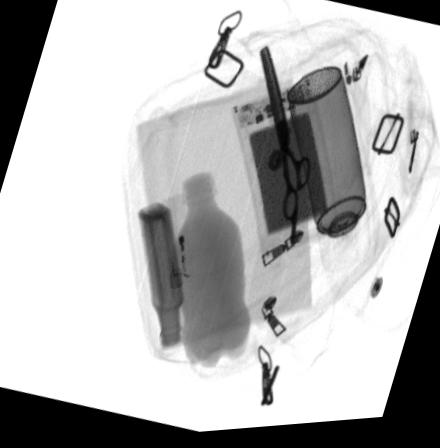Lighter: (164, 232, 188, 295)
Powerbank: (229, 85, 337, 255)
Scissors: (257, 49, 309, 249)
Sprayer: (285, 69, 366, 245)
